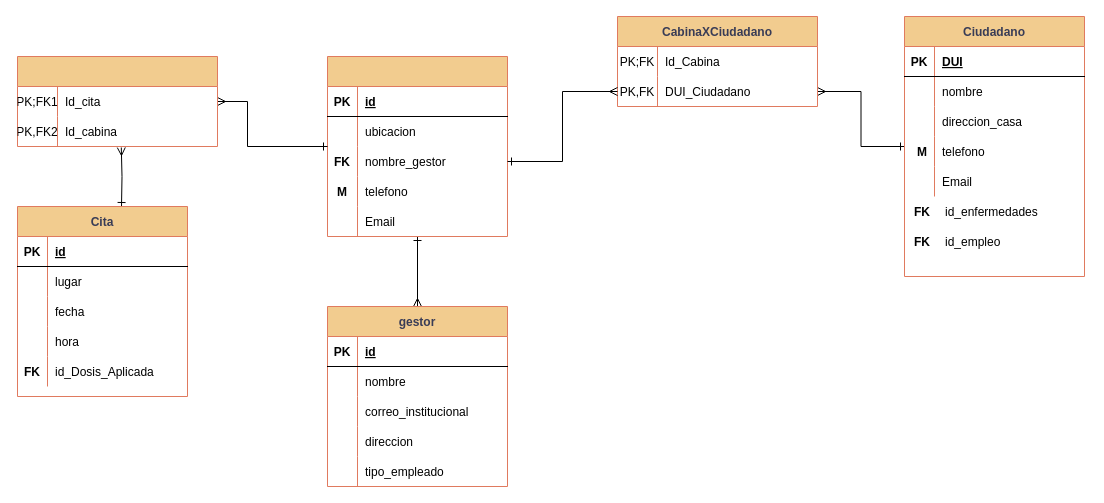
Image size: 1104x503. Some labels were removed from this diagram. Here are the shapes that lost their labels. From the top down, the box of each, then its label:
(16, 56, 218, 146): CitaxCabina
(326, 56, 508, 236): Cabina
